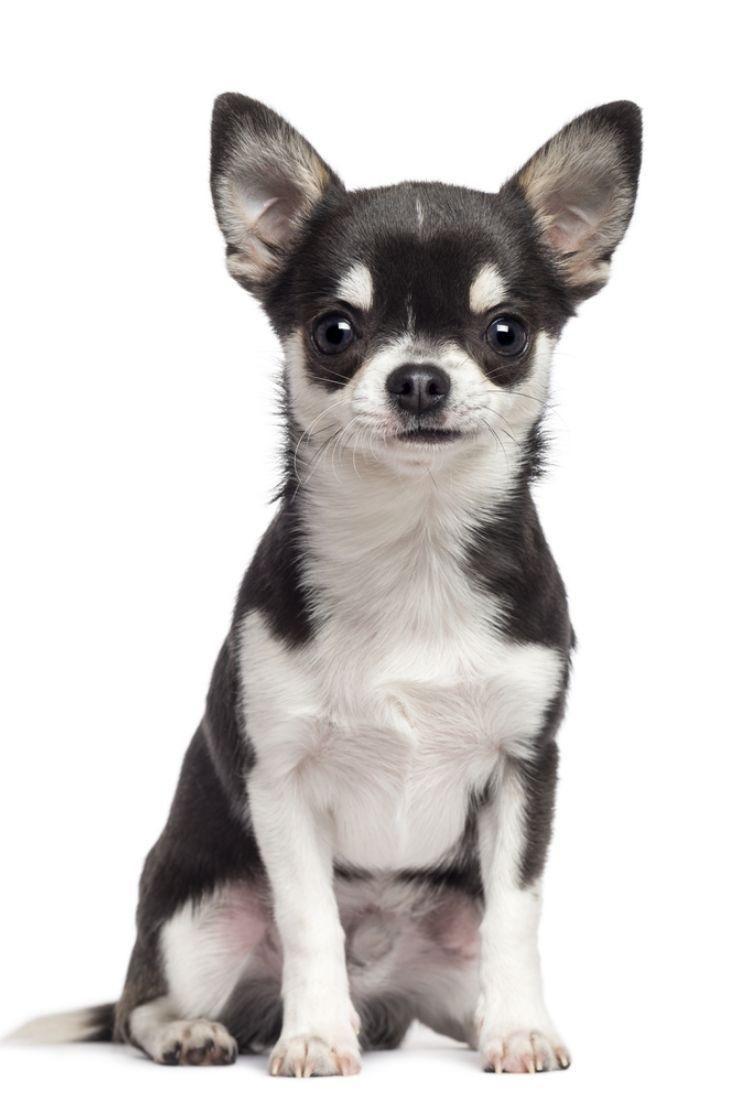puppy-dog: (7, 90, 647, 1080)
